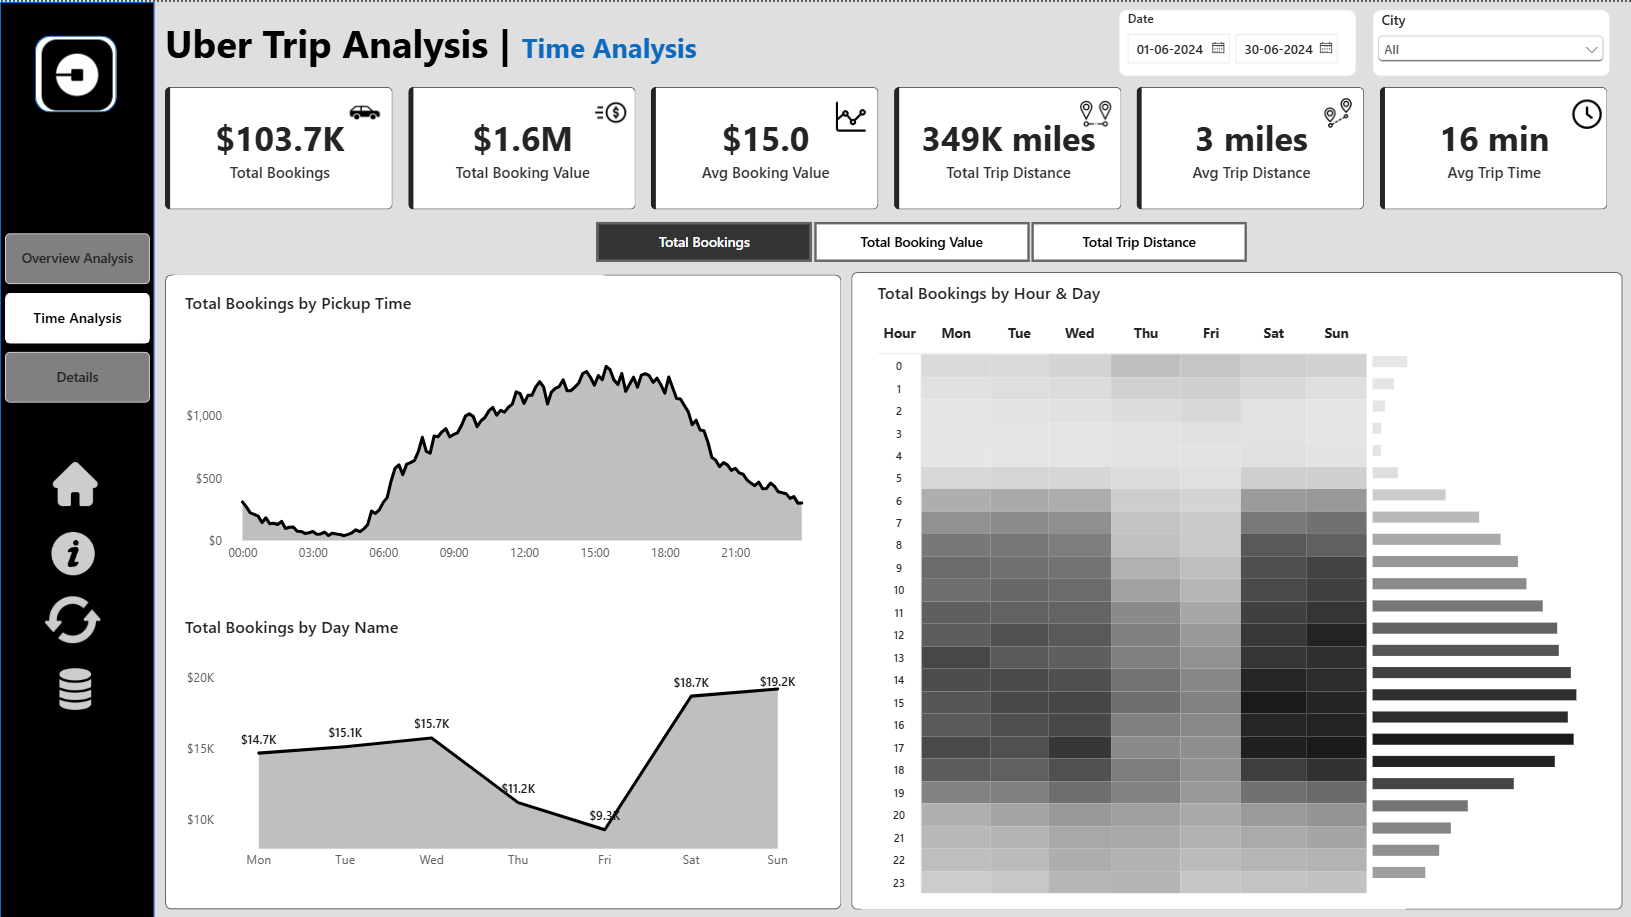

What the dashboard file says about the page in this screenshot:
{"tool":"powerbi","page":{"name":"Time Analysis","canvas":[1600,900],"ordinal":1},"visuals":[{"type":"shape","box":[0,0,151.2,899.7],"z":0},{"type":"textbox","box":[161.3,14.5,601.7,58.1],"z":1000},{"type":"cardVisual","fields":{"Data":["UBER_TABLE.Total Bookings","UBER_TABLE.Total Booking Amount","UBER_TABLE.Avg Booking Amount","UBER_TABLE.Total Trip Distance","UBER_TABLE.Avg Trip Distance","UBER_TABLE.Avg Trip Time"]},"box":[161.3,82.8,1415,120],"z":2000},{"type":"image","box":[574.1,93,48,30.5],"z":3000},{"type":"image","box":[331.4,93,50.9,30.5],"z":4000},{"type":"image","box":[812.5,95.9,43.6,33.4],"z":5000},{"type":"image","box":[1049.4,94.5,48,30.5],"z":6000},{"type":"image","box":[1289.2,94.5,45.1,29.1],"z":7000},{"type":"image","box":[1533.4,95.9,43.6,29.1],"z":8000},{"type":"shape","box":[161.3,267.4,662.8,622.1],"z":9000},{"type":"slicer","fields":{"Values":["Dynamic Measure.Dynamic Measure"]},"box":[564,213.7,677.3,43.6],"z":10000},{"type":"slicer","fields":{"Values":["Calendar Table.Date"]},"box":[1095.9,7.3,232.6,65.4],"z":11000},{"type":"slicer","fields":{"Values":["LOCATION_TABLE.City"]},"box":[1344.5,7.3,232.6,65.4],"z":12000},{"type":"areaChart","fields":{"Y":["UBER_TABLE.Total Bookings"],"Category":["UBER_TABLE.Pickup Hour (HH MM SS) (bins)"]},"box":[167.2,332.8,650,235],"z":13000},{"type":"cardVisual","fields":{"Data":["UBER_TABLE.Title for by Pickup Time"]},"box":[165.7,267.4,431.7,53.8],"z":14000},{"type":"lineChart","fields":{"Y":["UBER_TABLE.Total Bookings"],"Category":["Calendar Table.Day Name"]},"box":[167.2,638.1,645.4,231.1],"z":15000},{"type":"cardVisual","fields":{"Data":["UBER_TABLE.Title for by Day Name"]},"box":[165.7,584.3,431.7,53.8],"z":16000},{"type":"shape","box":[834.3,264.5,755.8,625],"z":17000},{"type":"pivotTable","fields":{"Values":["UBER_TABLE.Total Bookings"],"Rows":["UBER_TABLE.Pickup Hour"],"Columns":["Calendar Table.Day Name"]},"box":[844.5,296.5,533.4,593],"z":18000},{"type":"barChart","fields":{"Y":["UBER_TABLE.Total Bookings"],"Category":["UBER_TABLE.Pickup Hour"]},"box":[1328.5,321.2,234,578.5],"z":19000},{"type":"cardVisual","fields":{"Data":["UBER_TABLE.Title for by Hour & Day"]},"box":[844.5,257.3,431.7,53.8],"z":20000},{"type":"pageNavigator","box":[4.4,226.7,142.4,167.2],"z":21000},{"type":"group","id":"g1","title":"Group 1","box":[0,33.4,151.2,75.6],"z":22000},{"type":"image","box":[44.9,451.2,57.1,43.5],"z":22001},{"type":"image","box":[42.1,519.2,59.8,42.1],"z":22002},{"type":"image","box":[42.1,577.6,59.8,54.4],"z":22003},{"type":"image","box":[44.9,652.4,57.1,40.8],"z":22004},{"type":"shape","box":[34.5,33.4,80,75],"z":33000,"group":"g1"},{"type":"image","box":[0,36.7,151.2,69.8],"z":34000,"group":"g1"}]}

Visuals, with their boxes on the page's 1600x900 design canvas (x1, y1, x2, y2). These are canvas units, not pixel positions in the 1631x917 screenshot, which may show the page scaled, cropped or inside an application window:
shape: 0,0,151,900
textbox: 161,14,763,73
cardVisual - UBER_TABLE.Total Bookings x UBER_TABLE.Total Booking Amount: 161,83,1576,203
image: 574,93,622,124
image: 331,93,382,124
image: 812,96,856,129
image: 1049,94,1097,125
image: 1289,94,1334,124
image: 1533,96,1577,125
shape: 161,267,824,890
slicer - Dynamic Measure.Dynamic Measure: 564,214,1241,257
slicer - Calendar Table.Date: 1096,7,1328,73
slicer - LOCATION_TABLE.City: 1344,7,1577,73
areaChart - UBER_TABLE.Total Bookings x UBER_TABLE.Pickup Hour (HH MM SS) (bins): 167,333,817,568
cardVisual - UBER_TABLE.Title for by Pickup Time: 166,267,597,321
lineChart - UBER_TABLE.Total Bookings x Calendar Table.Day Name: 167,638,813,869
cardVisual - UBER_TABLE.Title for by Day Name: 166,584,597,638
shape: 834,264,1590,890
pivotTable - UBER_TABLE.Total Bookings x UBER_TABLE.Pickup Hour: 844,296,1378,890
barChart - UBER_TABLE.Total Bookings x UBER_TABLE.Pickup Hour: 1328,321,1562,900
cardVisual - UBER_TABLE.Title for by Hour & Day: 844,257,1276,311
pageNavigator: 4,227,147,394
"Group 1" group: 0,33,151,109
image: 45,451,102,495
image: 42,519,102,561
image: 42,578,102,632
image: 45,652,102,693
shape: 34,33,114,108
image: 0,37,151,106
